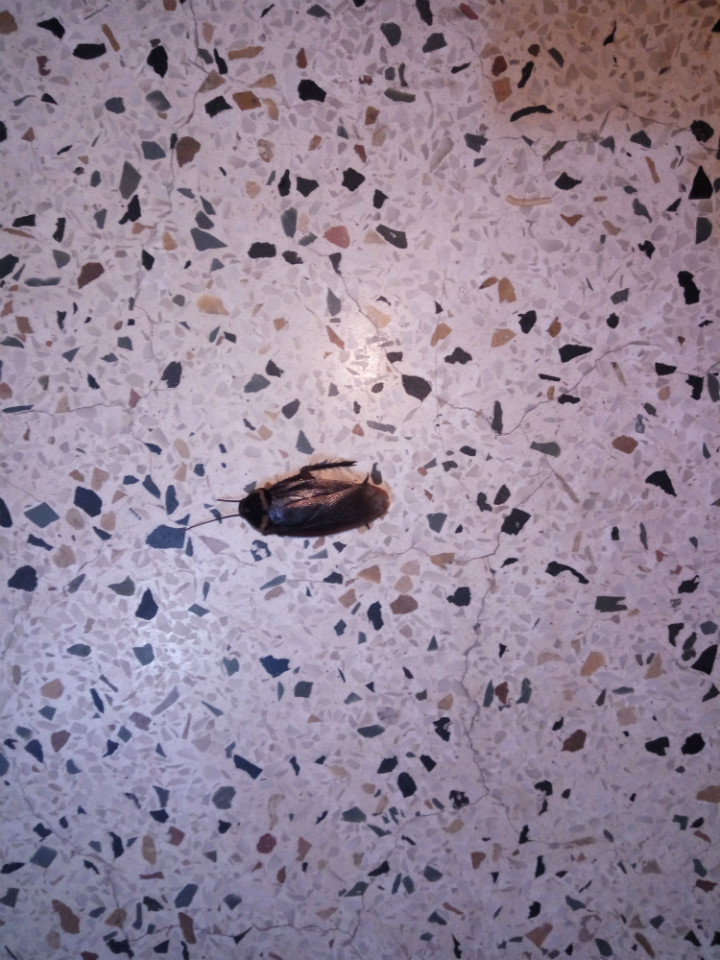cockroach: (160, 419, 438, 569)
